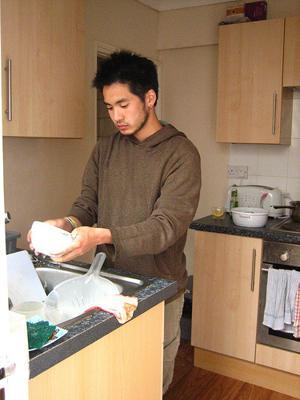person: (27, 46, 202, 398)
